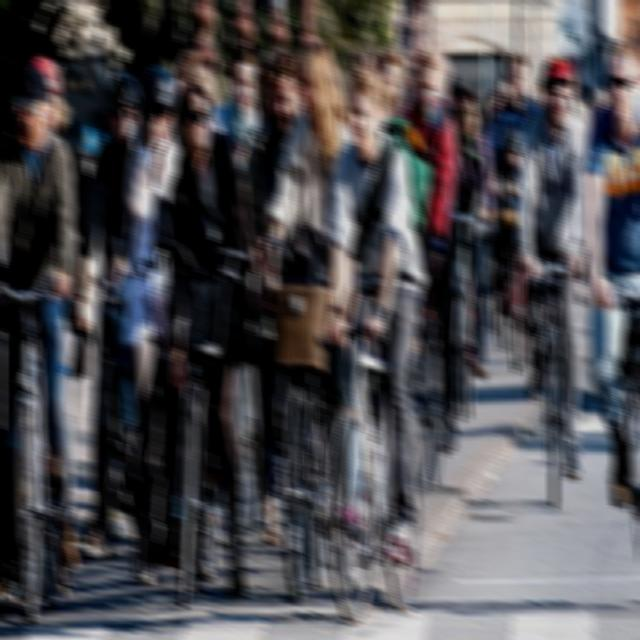With Helmet: (136, 57, 178, 144), (534, 46, 575, 126)
Without Helmet: (342, 57, 382, 152), (600, 35, 640, 122)
